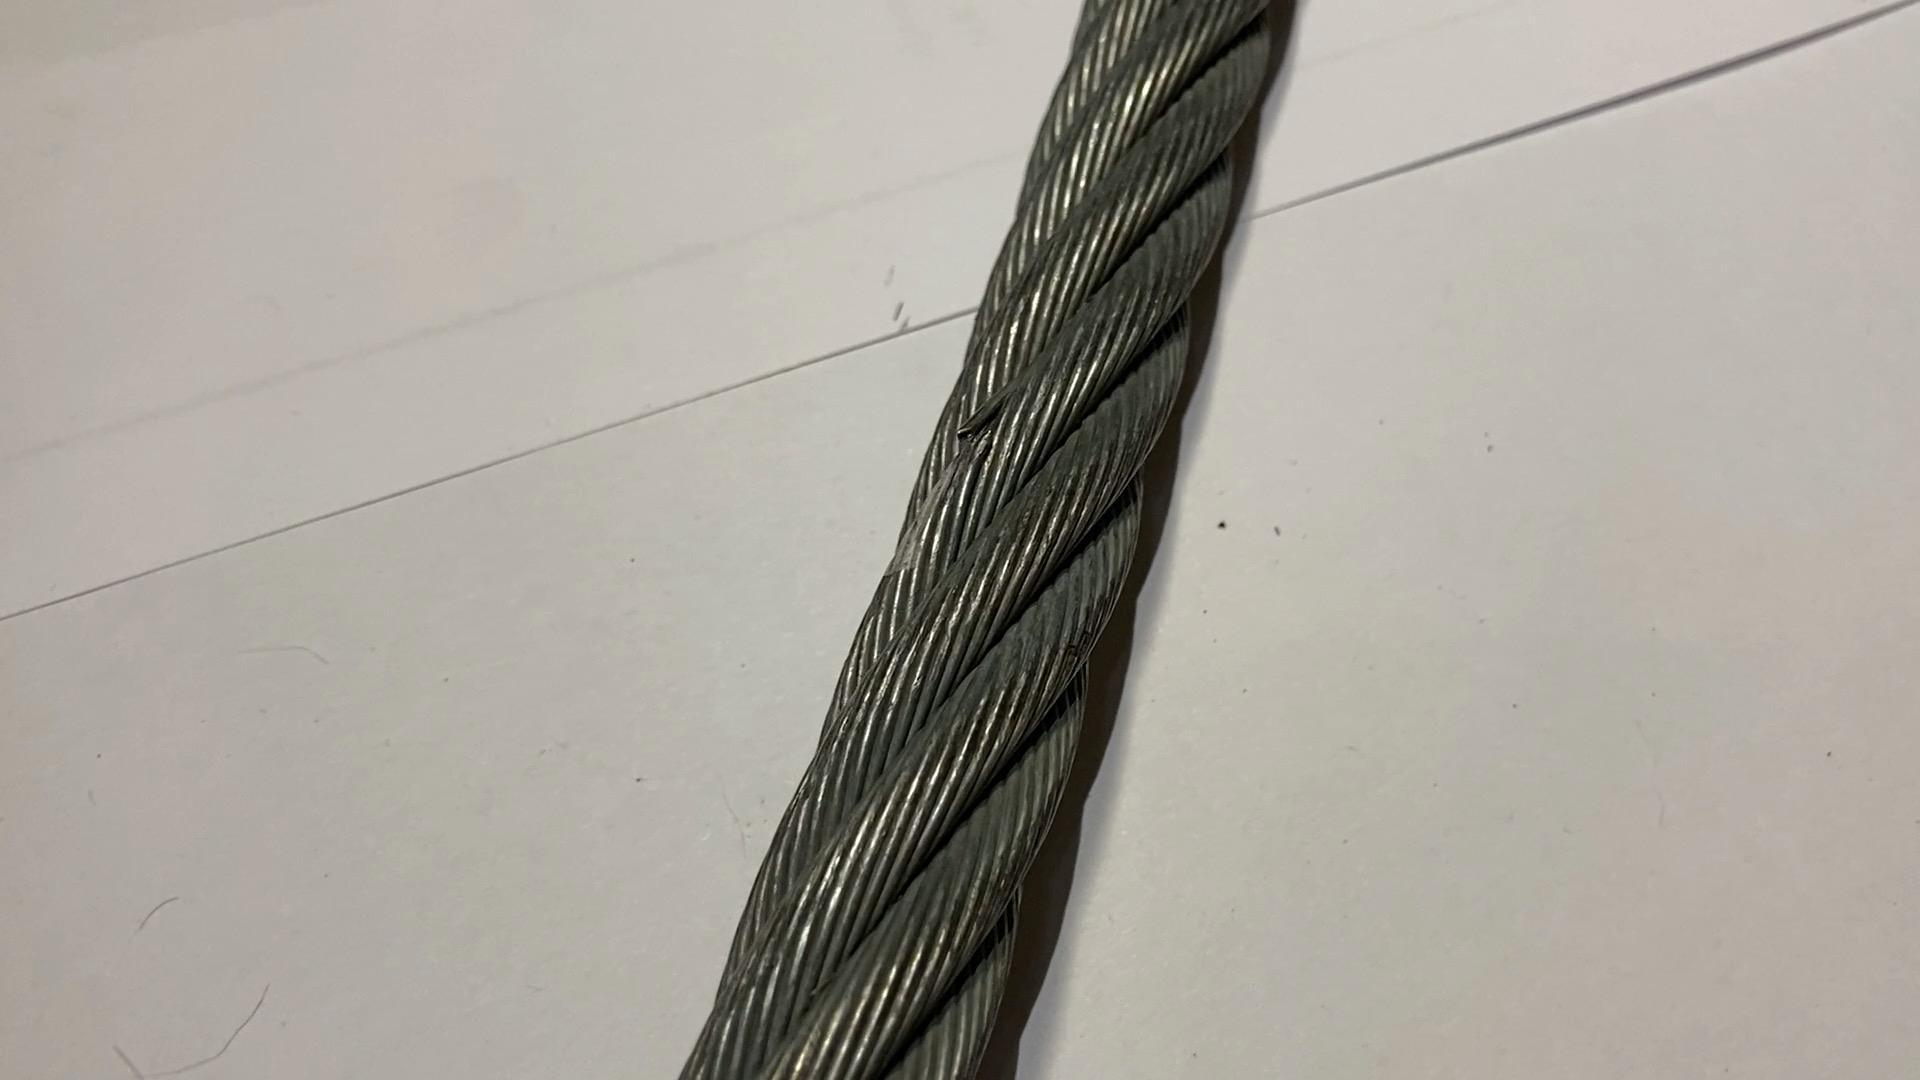break: (943, 371, 1025, 446)
